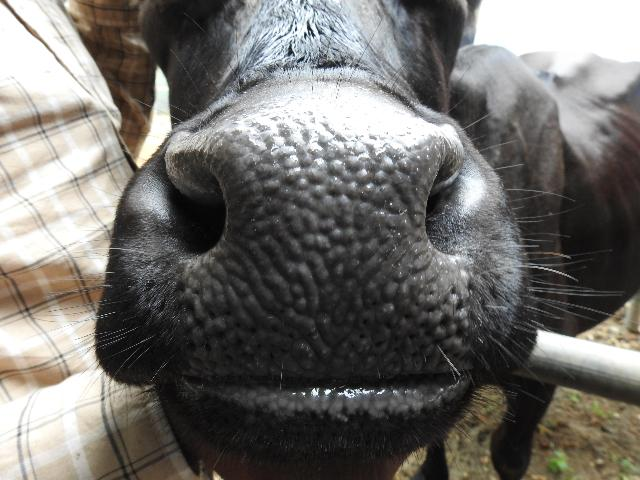Muzzle: (226, 118, 427, 384)
